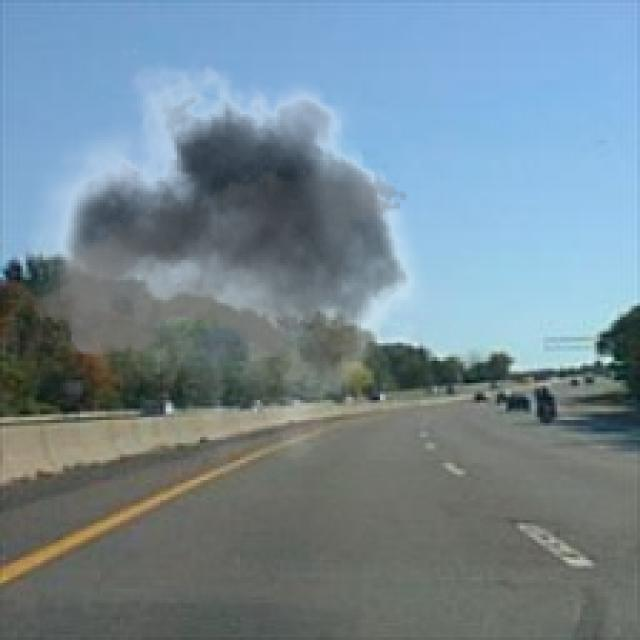smoke: (28, 43, 443, 468)
